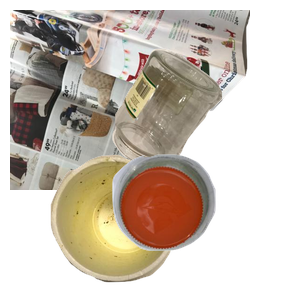glass: (110, 46, 300, 205)
paper: (10, 10, 250, 190)
plastic: (110, 152, 300, 300)
trash: (48, 152, 219, 300)
